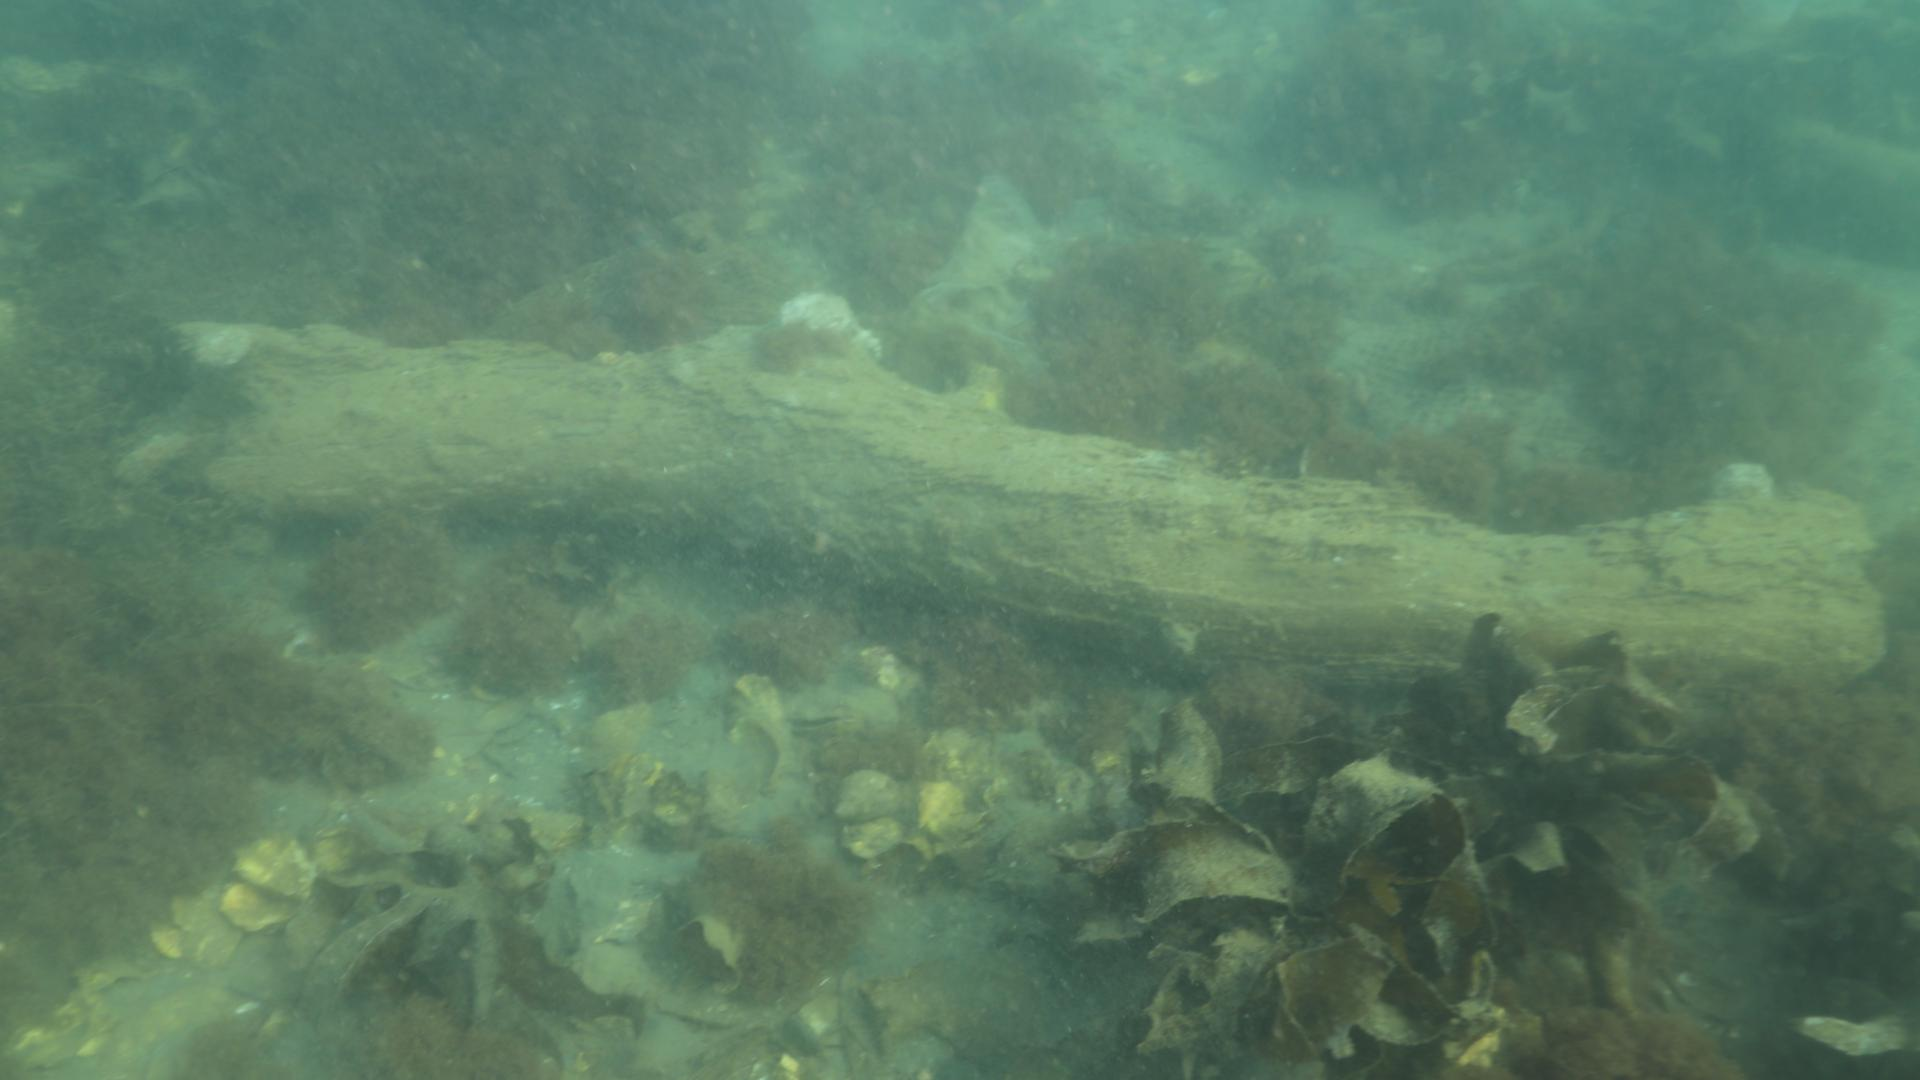fish net: (1356, 318, 1600, 463)
wood: (171, 326, 1882, 687)
